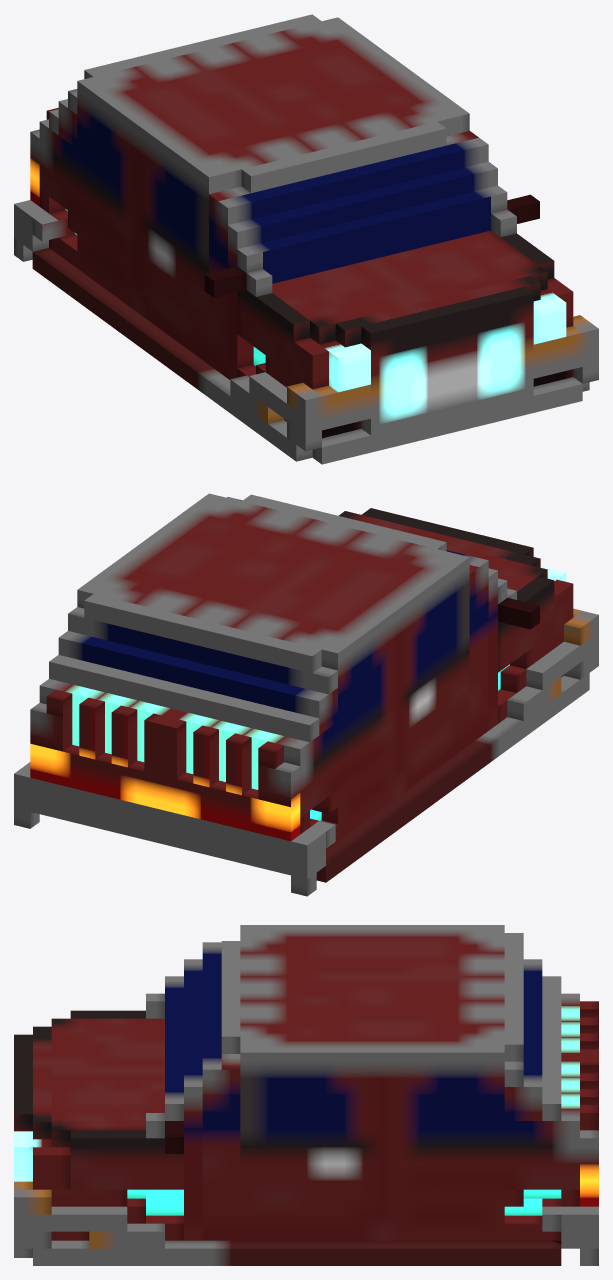
The model's file is cyber_maluch_silnik tył.dae.
3 renders of one model, top to bottom at view 1: azimuth 30°, elevation 25°; view 2: azimuth 150°, elevation 25°; view 3: azimuth 270°, elevation 25°, orthographic.
Visible parts, largest first — view 1: Content; view 2: Content; view 3: Content.
Boxes of the visible parts, left/top/right/bottom form: Content: left=14, top=14, right=598, bottom=464; Content: left=14, top=493, right=598, bottom=896; Content: left=14, top=925, right=598, bottom=1265.
Bounding box in the file's own units: 20 × 12 × 31.
1 material, 1 textured.
